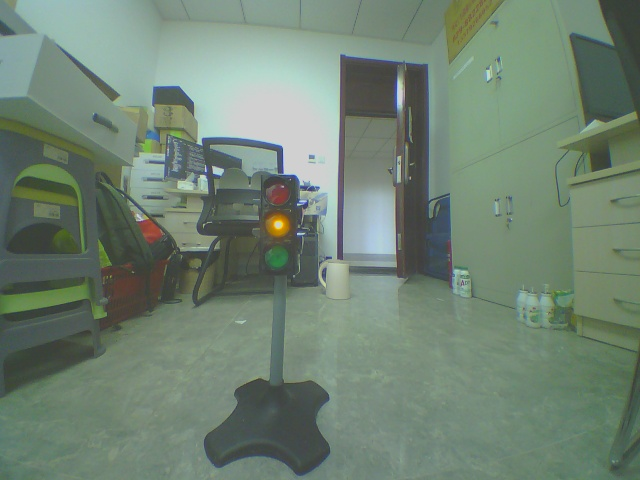Yellow: (246, 163, 320, 291)
